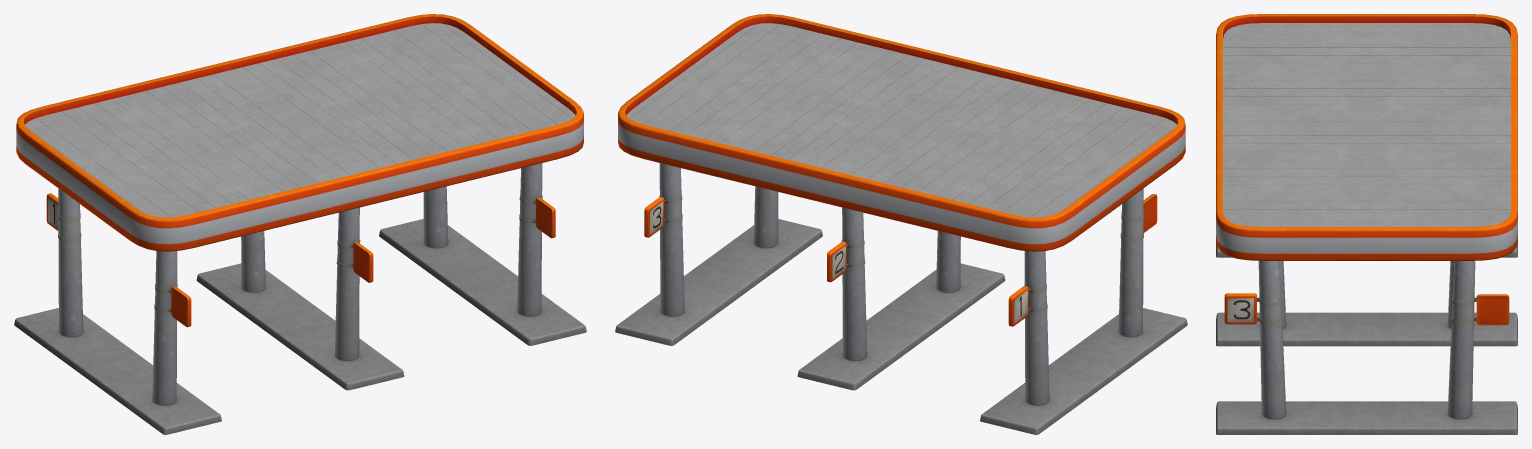
File: GasStation01_1.FBX
3 views of the same model, side by side, from view 1: azimuth 30°, elevation 25°; view 2: azimuth 150°, elevation 25°; view 3: azimuth 270°, elevation 25° (orthographic).
Parts seen in each view (by area): view 1: GasStation01_1; view 2: GasStation01_1; view 3: GasStation01_1.
Boxes of the visible parts, bbox=[...] form: GasStation01_1: bbox=[14, 14, 586, 434]; GasStation01_1: bbox=[615, 14, 1187, 434]; GasStation01_1: bbox=[1216, 14, 1517, 434].
Size of what is drawn, in the model's own units: 11.03 by 5 by 6.5.
